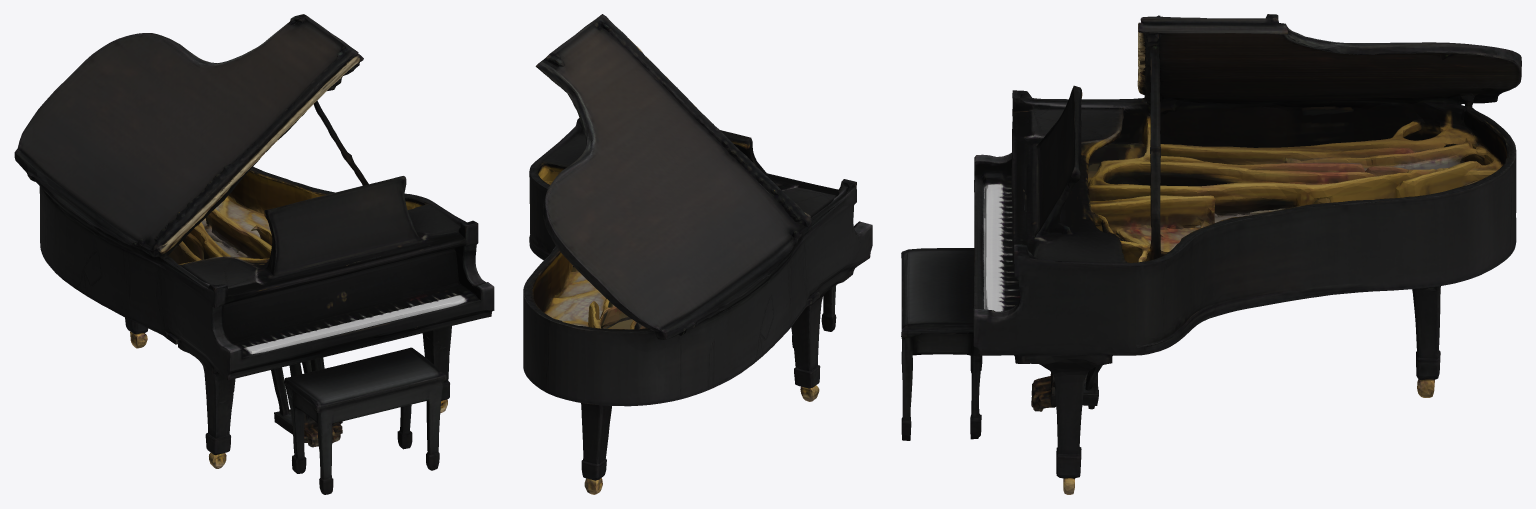
File: niknet_art-piano-3229.glb
3 views of the same model, side by side, from view 1: azimuth 30°, elevation 25°; view 2: azimuth 150°, elevation 25°; view 3: azimuth 270°, elevation 25° (orthographic). The views are drawn at different scales.
Visible parts, largest first — view 1: world; view 2: world; view 3: world.
Boxes of the visible parts, <box> form: world: <box>14,14,494,494</box>; world: <box>523,14,872,494</box>; world: <box>901,14,1521,494</box>.
Bounding box in the file's own units: 0.6651 × 0.7898 × 1.
1 material, 1 textured.
